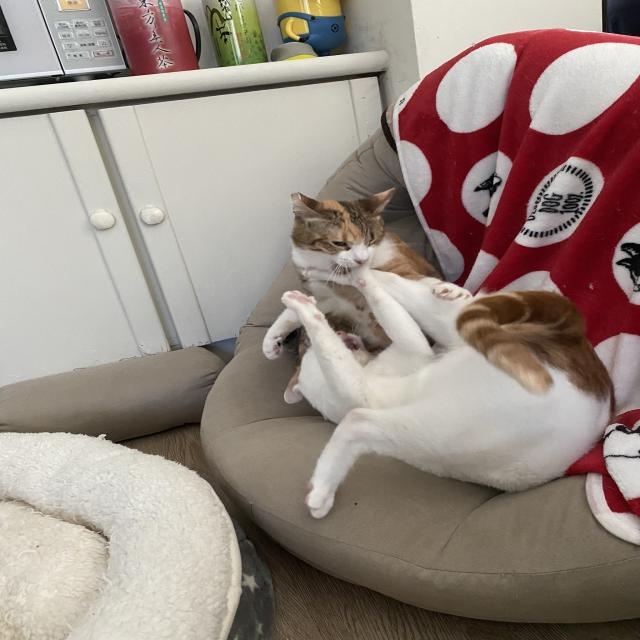cat1: (275, 268, 640, 526)
cat2: (260, 187, 461, 351)
